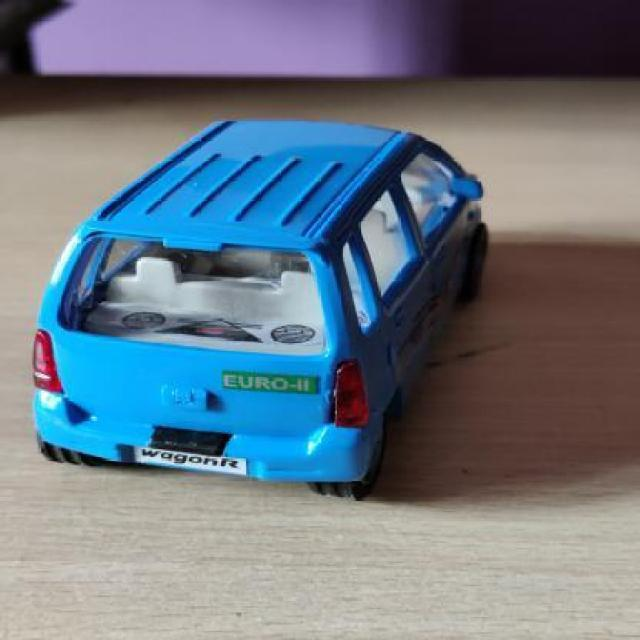vehicle: (29, 123, 508, 504)
